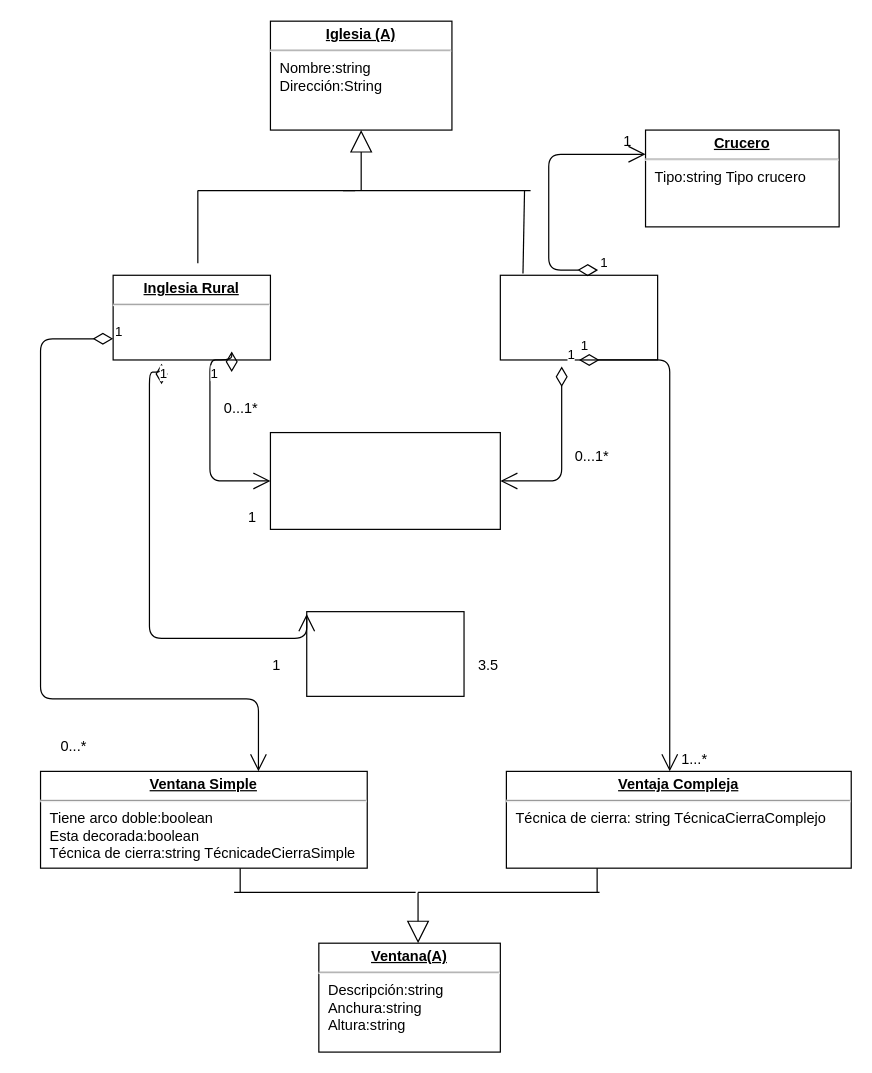
The diagram is 872 pixels wide and 1073 high, and some of its shapes have lost their labels. The shapes that lost their labels are listed below. From the top down, each one's centre as x and y in pixels, then its label:
the point at 578,317: Iglesia Monocal Order:Texto
the point at 384,480: Ábside Forma:1string FormaÁbside
the point at 385,653: Nave Superficia:string
